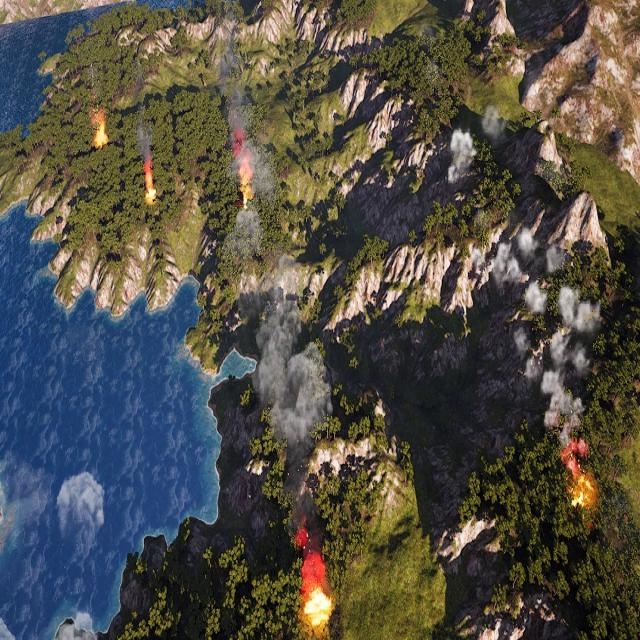fire: (562, 441, 592, 508), (303, 584, 333, 628), (237, 163, 254, 212), (92, 108, 109, 146), (144, 164, 156, 200)
smoke: (248, 264, 338, 572), (489, 224, 606, 437), (210, 34, 278, 252), (447, 108, 508, 188), (60, 465, 106, 555), (134, 92, 158, 159)
